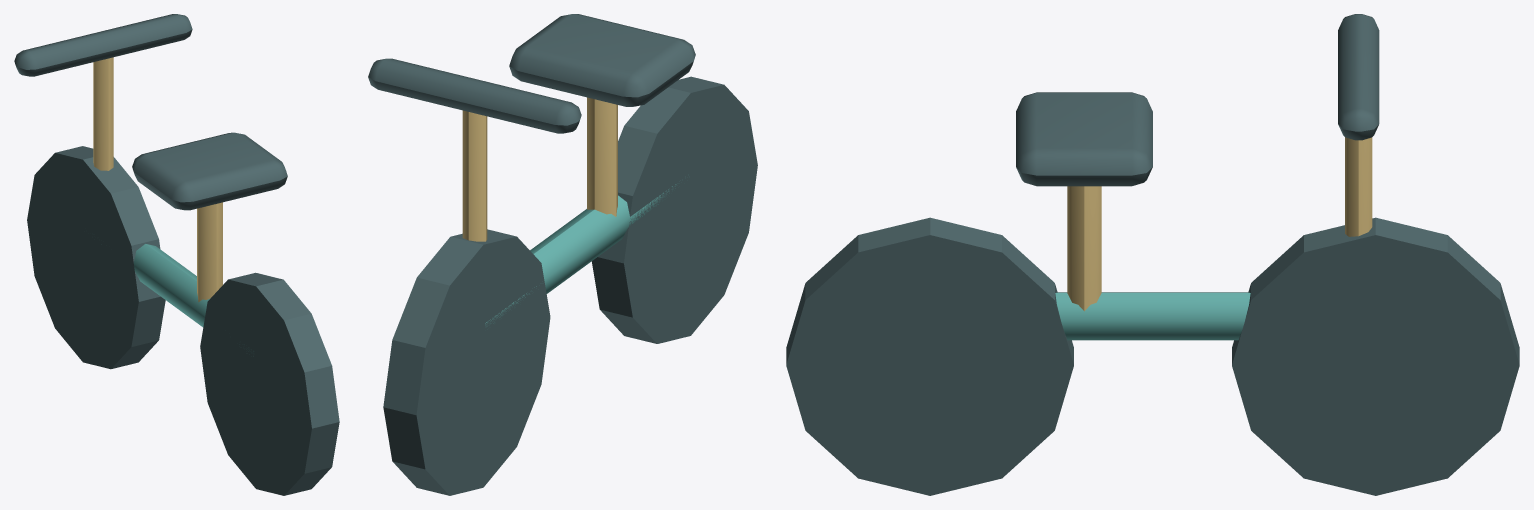
File: exercise-bike.glb
The picture shows the model from 3 angles, left to right: view 1: azimuth 30°, elevation 25°; view 2: azimuth 150°, elevation 25°; view 3: azimuth 270°, elevation 25°; orthographic projection. The views are drawn at different scales.
Visible parts, largest first — view 1: Bike flywheel, Bike flywheel.001, Saddle, Handlebar, Bike spine, Seat post, Handle stem; view 2: Bike flywheel.001, Bike flywheel, Saddle, Handlebar, Bike spine, Seat post, Handle stem; view 3: Bike flywheel, Bike flywheel.001, Saddle, Bike spine, Handlebar, Seat post, Handle stem.
Part boxes in pixels (x1,y1,x2,y2): Bike flywheel: (200, 272, 339, 495); Bike flywheel.001: (27, 146, 165, 369); Saddle: (132, 132, 287, 210); Handlebar: (14, 14, 192, 76); Bike spine: (101, 244, 253, 356); Seat post: (197, 202, 222, 302); Handle stem: (93, 57, 113, 170); Bike flywheel.001: (383, 229, 550, 495); Bike flywheel: (591, 76, 757, 343); Saddle: (509, 14, 695, 106); Handlebar: (368, 58, 581, 133); Bike spine: (485, 184, 676, 329); Seat post: (587, 97, 617, 216); Handle stem: (462, 110, 487, 241); Bike flywheel: (786, 217, 1073, 495); Bike flywheel.001: (1232, 217, 1519, 495); Saddle: (1016, 92, 1152, 186); Bike spine: (1055, 292, 1250, 340); Handlebar: (1338, 14, 1379, 140); Seat post: (1067, 186, 1101, 311); Handle stem: (1345, 137, 1372, 236).
Size of the model in its own units: 0.75 by 1.37 by 2.14.
